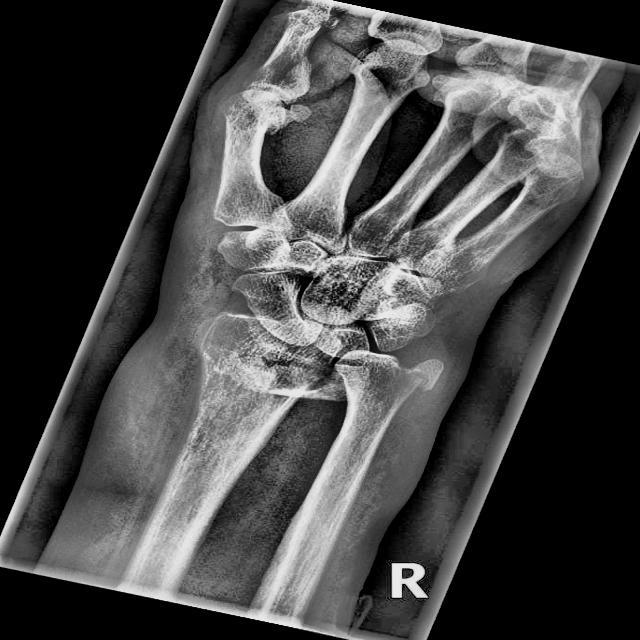fracture: (196, 352, 318, 404), (403, 364, 437, 393)
